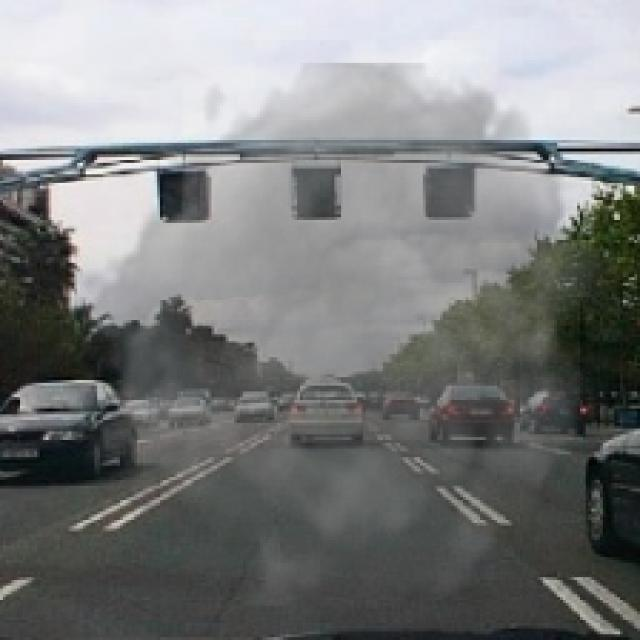smoke: (63, 63, 626, 606)
